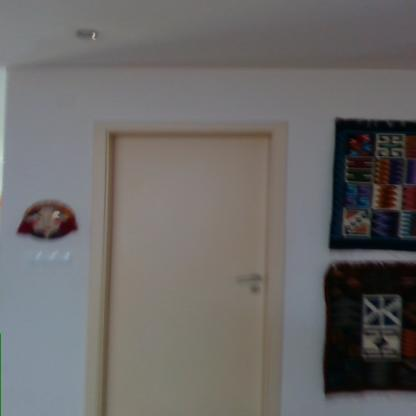closed: (81, 102, 314, 414)
